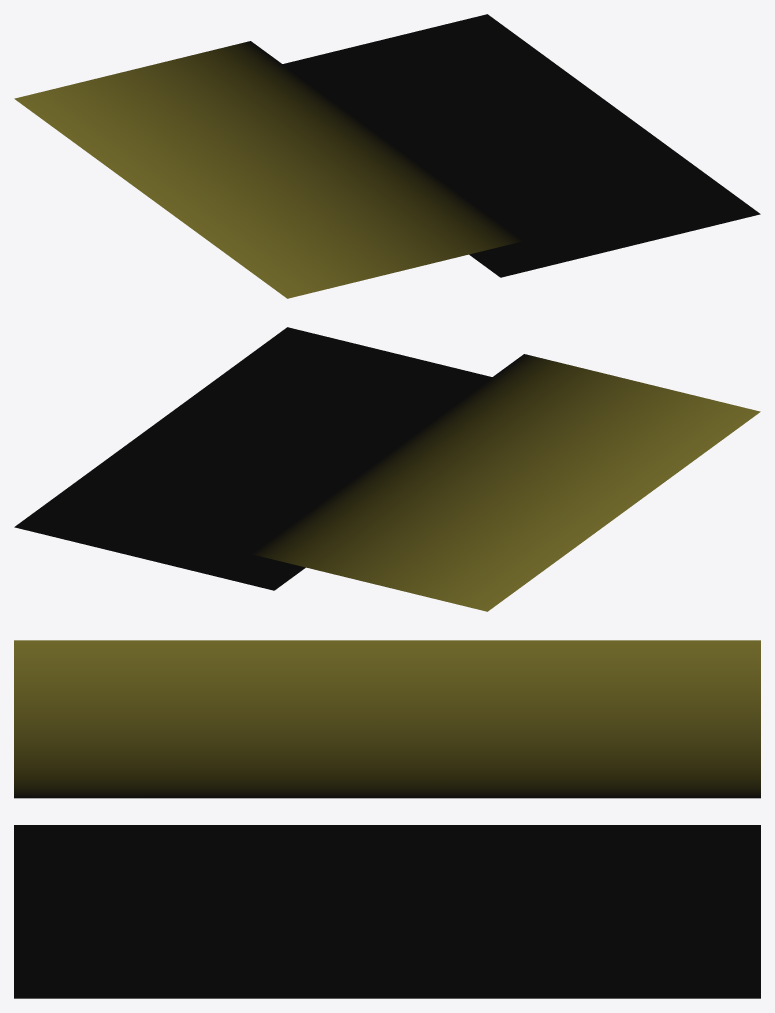
3 views of the same model, one above another, from view 1: azimuth 30°, elevation 25°; view 2: azimuth 150°, elevation 25°; view 3: azimuth 270°, elevation 25° (orthographic). The views are drawn at different scales.
Bounding box in the file's own units: 1 × 0.0625 × 1.
1 material, 1 textured.
